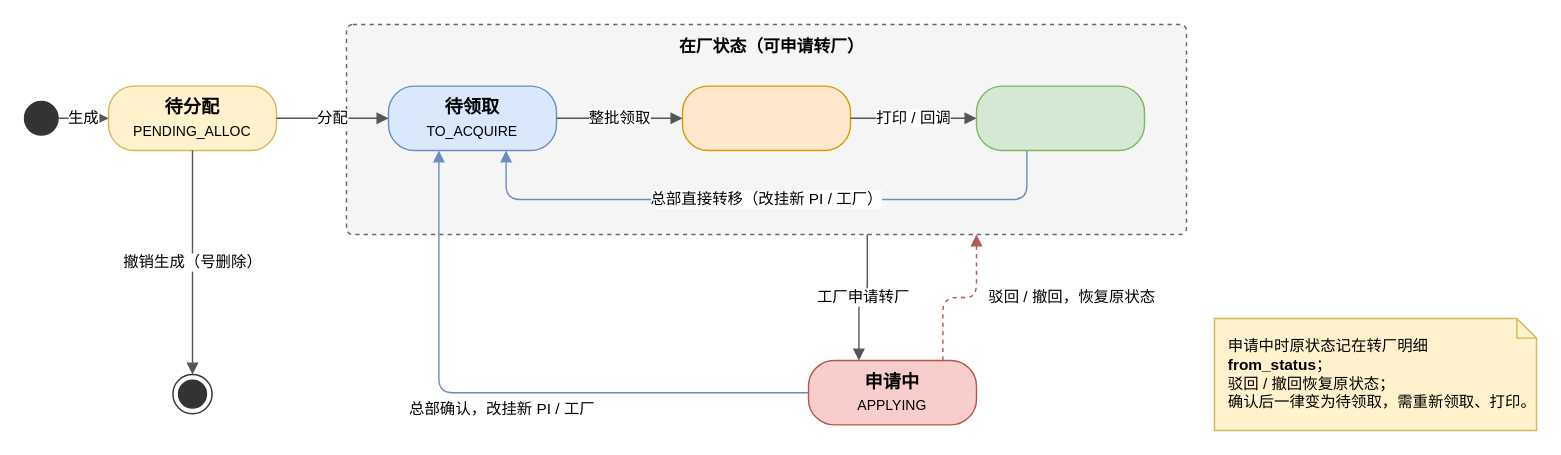
The diagram is 1561 pixels wide and 455 high, and some of its shapes have lost their labels. The box of each missing label's shape, as (x1, y1, x2, y2) in pixels:
已打印 PRINTED: (975, 85, 1144, 150)
待打印 TO_PRINT: (681, 85, 850, 150)
